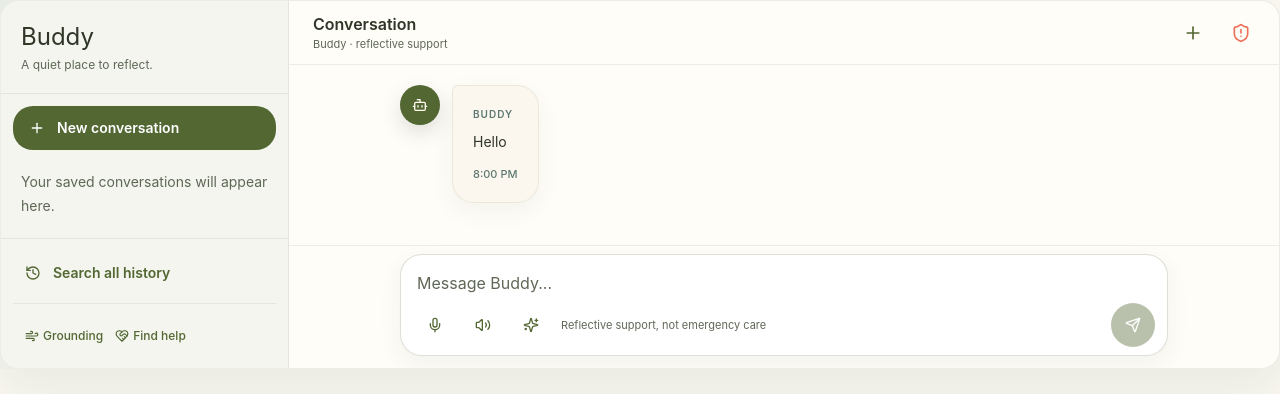
Test case: BuddyView › adds final speech recognition text to the draft
Step 1. Click the button named "start voice input" → coordinates (435, 325), box x1=413 y1=303 x2=457 y2=347
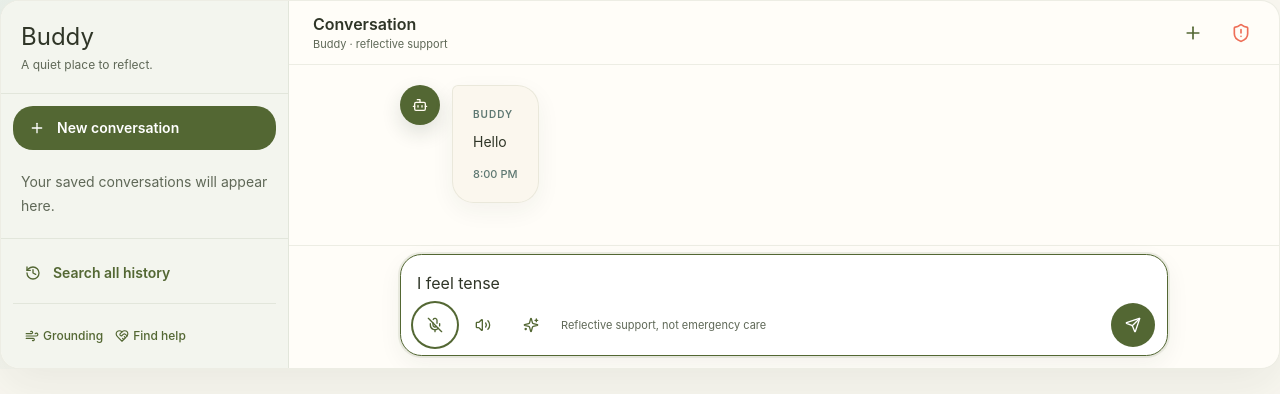
Expected: the text box named "Message Buddy" holds "I feel tense", x1=413 y1=263 x2=1155 y2=303
